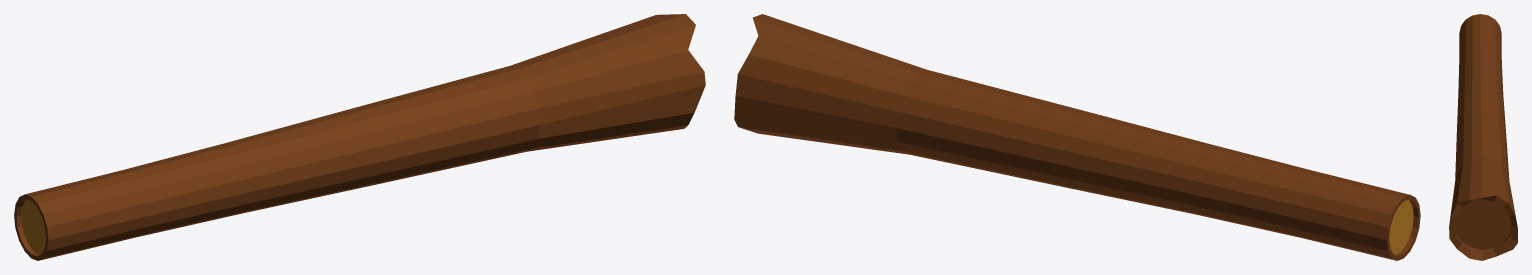
Rendered from TreeObstacle.fbx.
The picture shows the model from 3 angles, left to right: view 1: azimuth 30°, elevation 25°; view 2: azimuth 150°, elevation 25°; view 3: azimuth 270°, elevation 25°; orthographic projection. The views are drawn at different scales.
Visible parts, largest first — view 1: Cylinder; view 2: Cylinder; view 3: Cylinder.
Boxes of the visible parts, box(x1,y1,x2,y2) form: Cylinder: box(14, 14, 705, 260); Cylinder: box(734, 14, 1420, 260); Cylinder: box(1449, 14, 1517, 260).
Bounding box in the file's own units: 1642 × 259 × 242.
